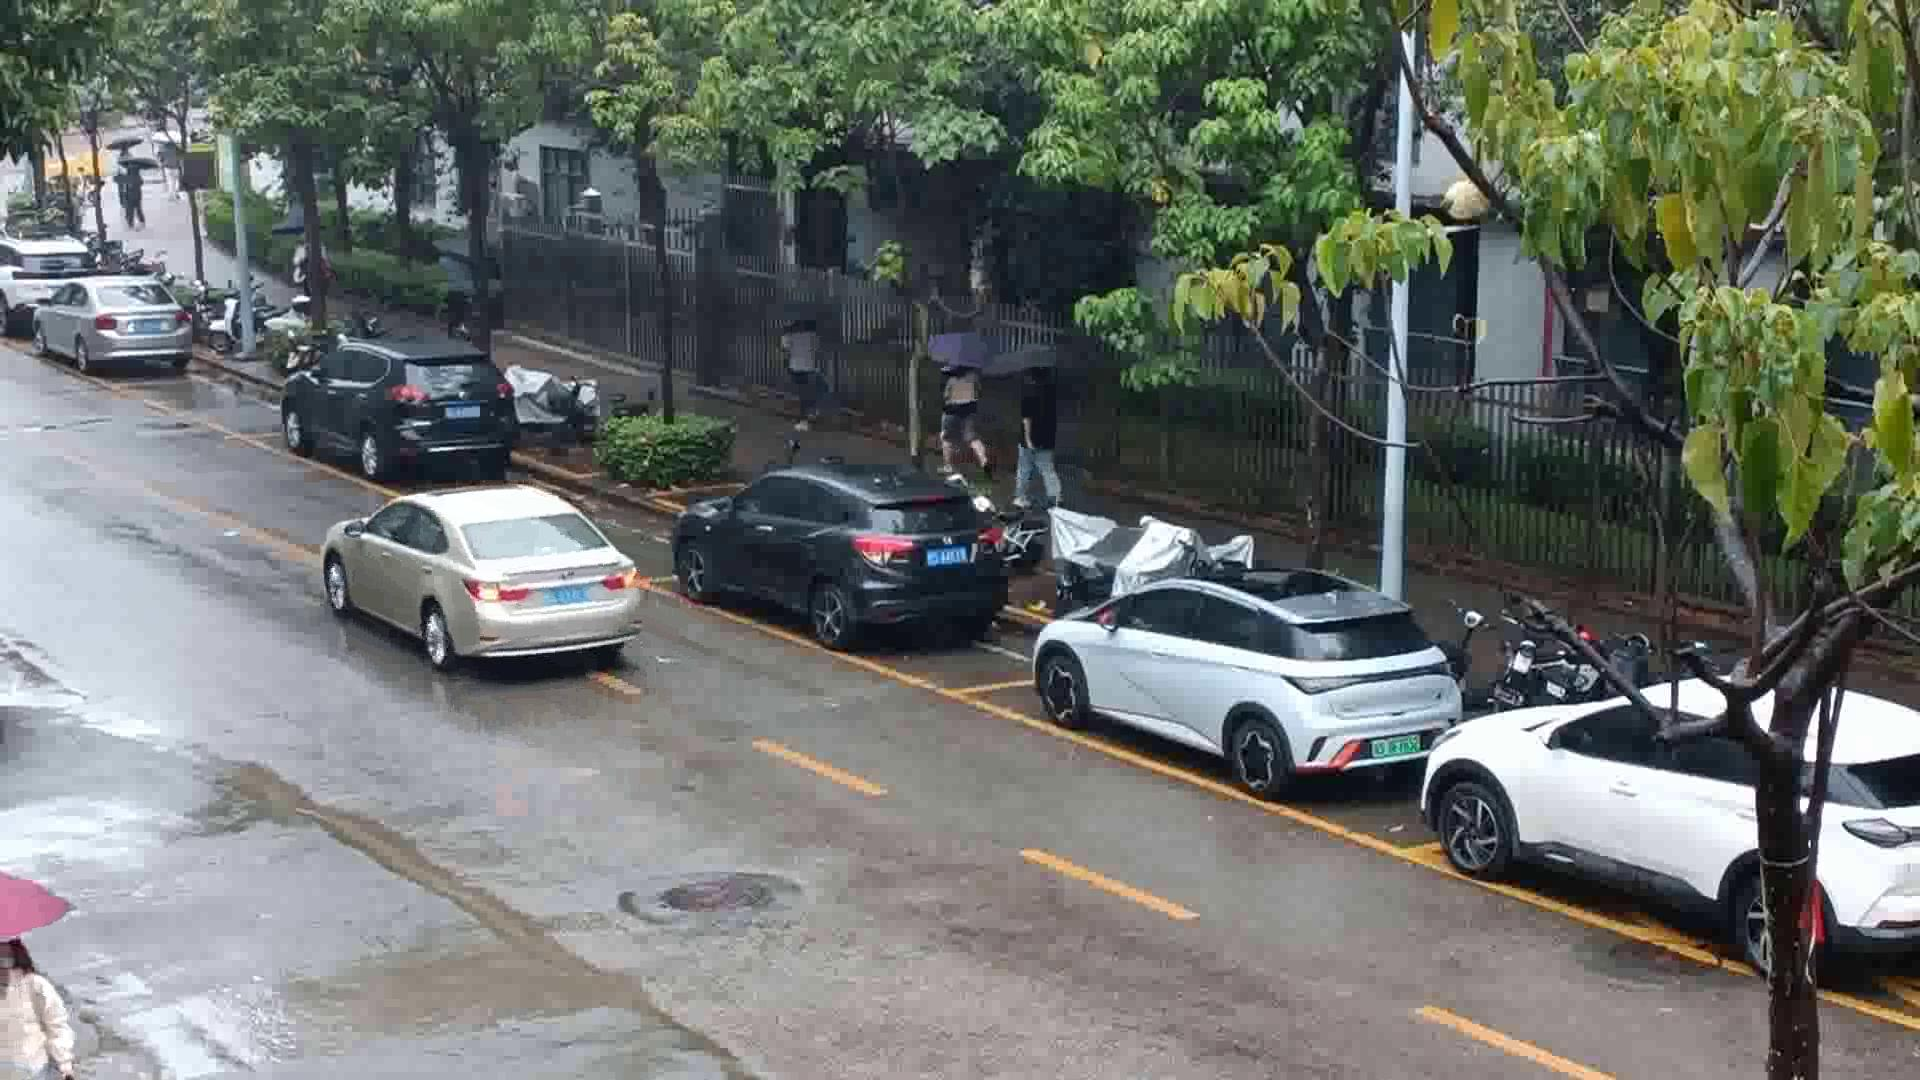space-empty: (436, 490, 743, 591), (97, 375, 320, 447)
space-occupied: (943, 654, 1495, 871), (1399, 797, 1907, 1009), (635, 554, 1070, 704), (231, 414, 562, 508), (18, 338, 226, 391)
